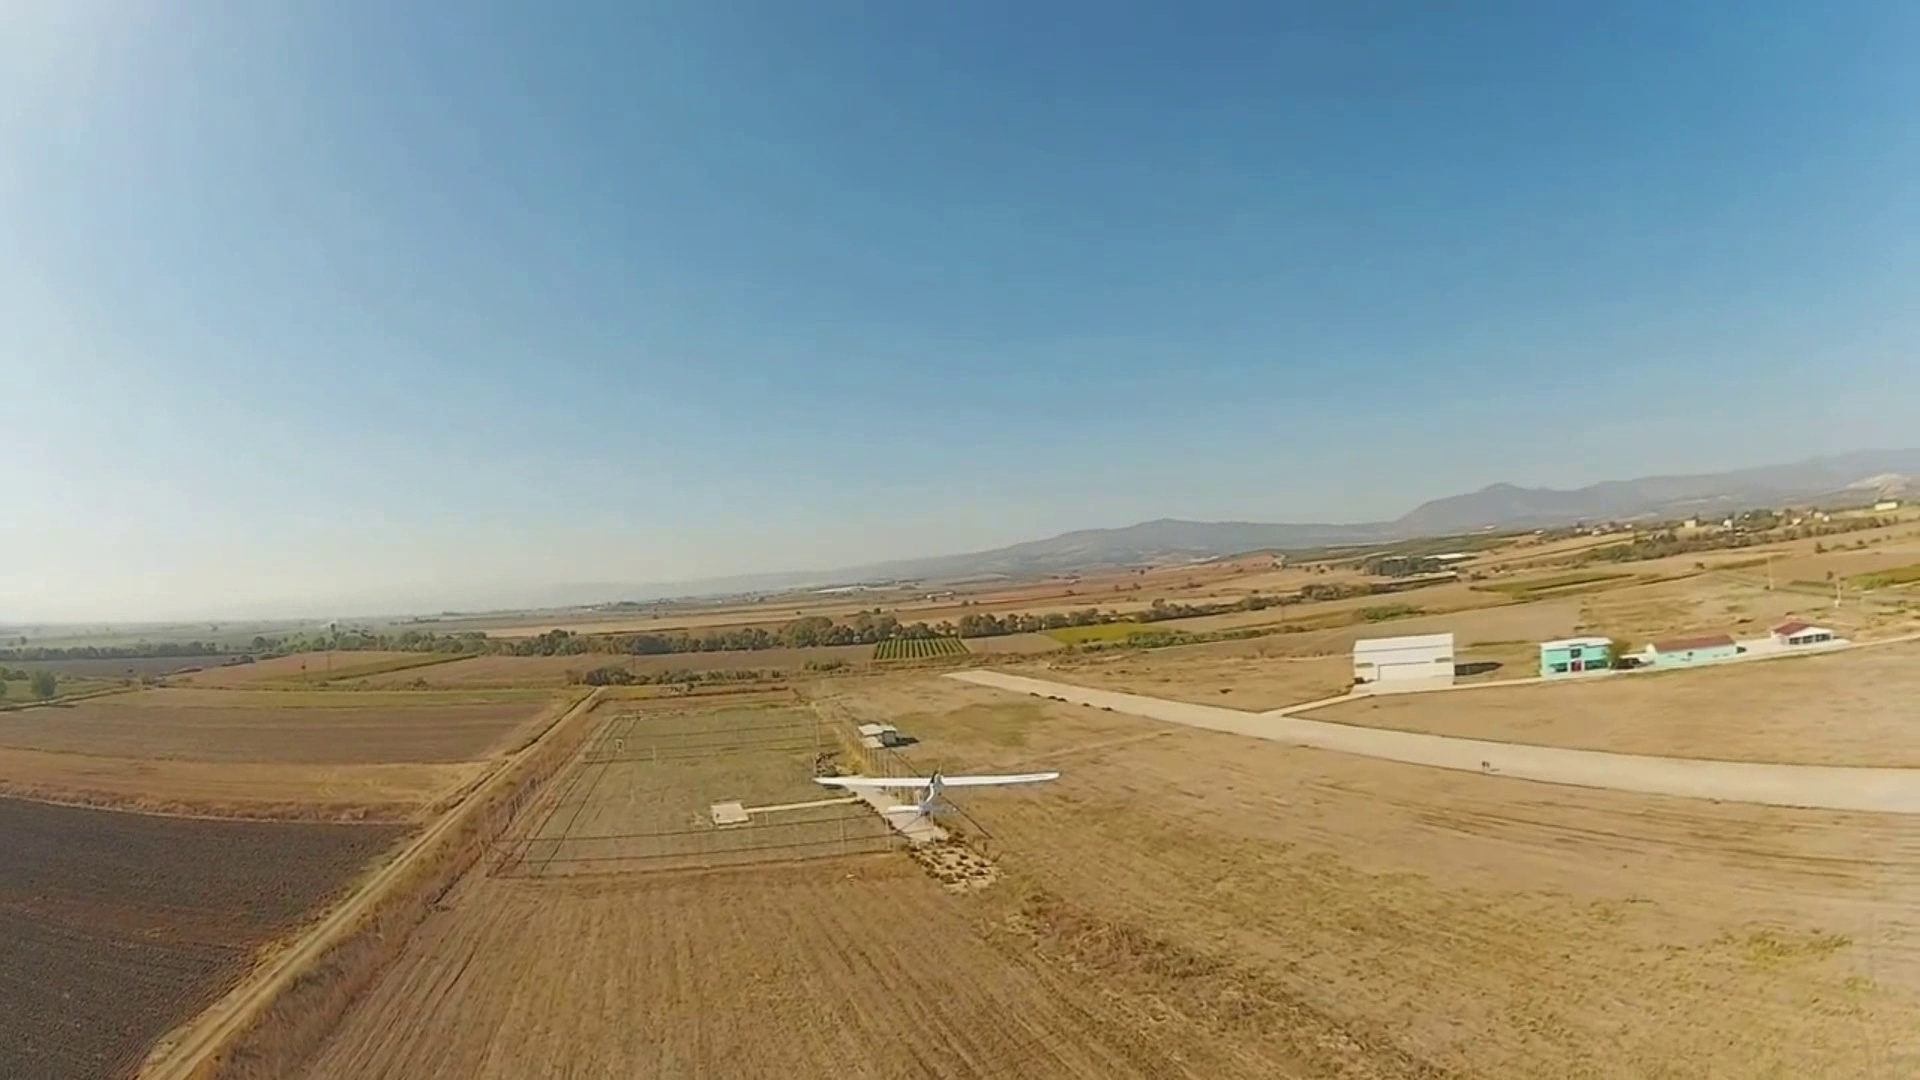airplane: (812, 733, 1065, 844)
